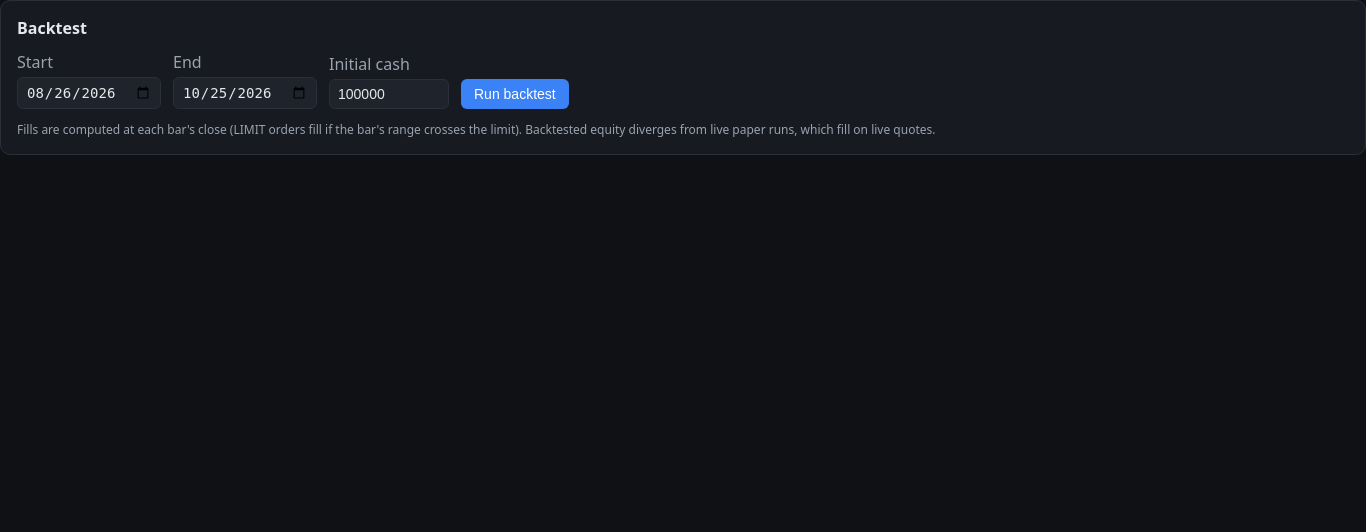
it: BacktestPanel › launches a backtest and renders stats + equity curve on COMPLETED
What coordinates should you click on to do the following:
click the button "Run backtest"
I would click on:
 (515, 94)
Its box is left=461, top=79, right=569, bottom=109.
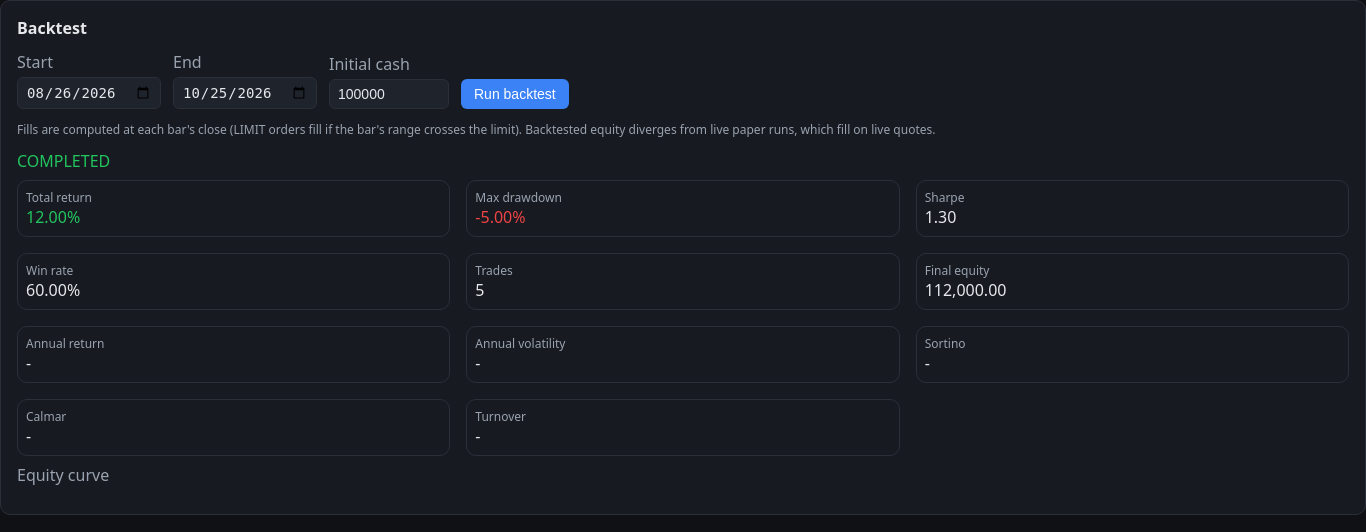
expect the text "Total return" is shown: met, box left=26, top=189, right=92, bottom=206
expect the text "12.00%" is shown: met, box left=26, top=206, right=80, bottom=228
expect the text "Win rate" is shown: met, box left=26, top=262, right=73, bottom=279
